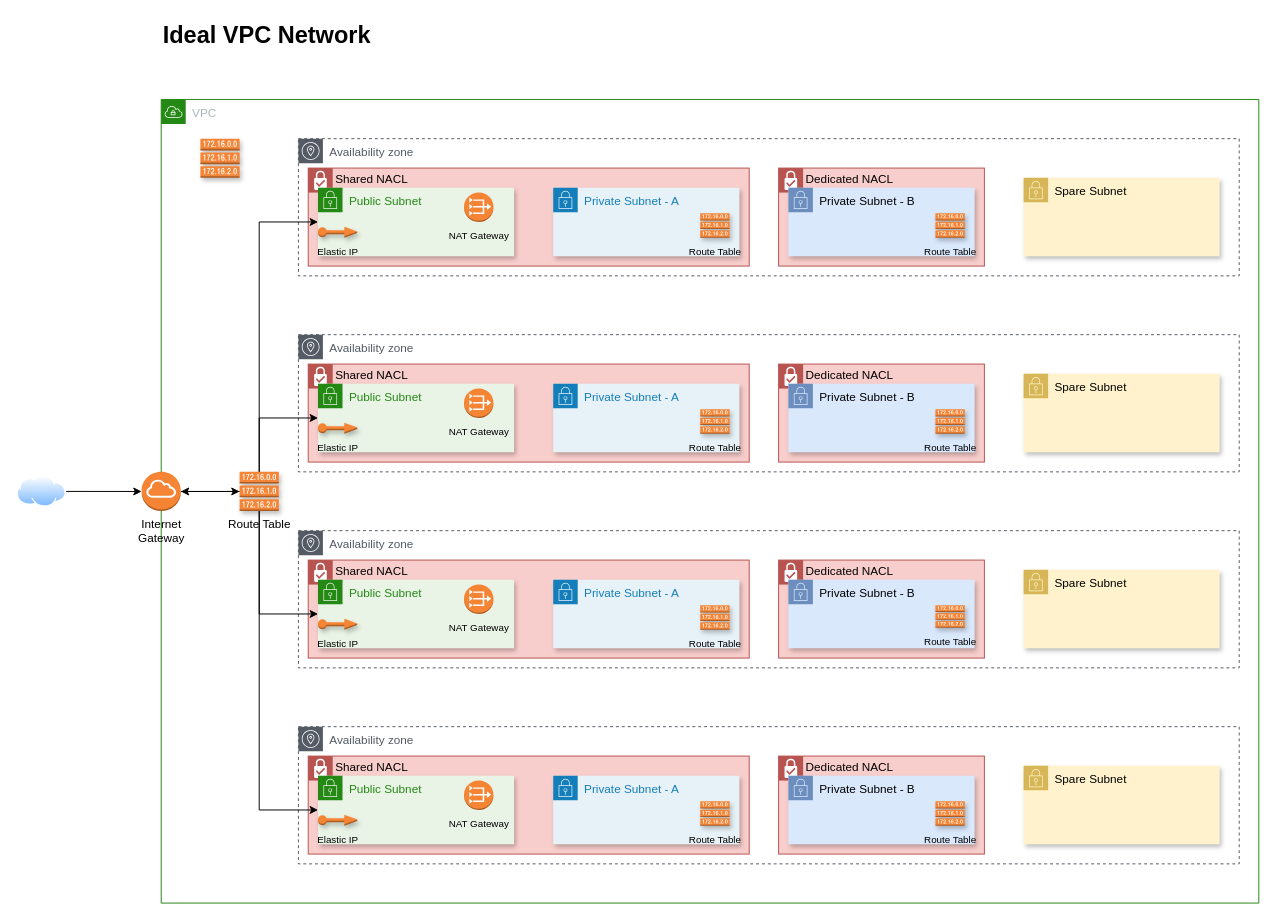
Some shapes in this 1276 by 920 pixel diagram are drawn without their labels. Each missing label, with the centre of its shape:
"Internet" goes at point 41,490.
"Main Route Table" goes at point 220,159.
